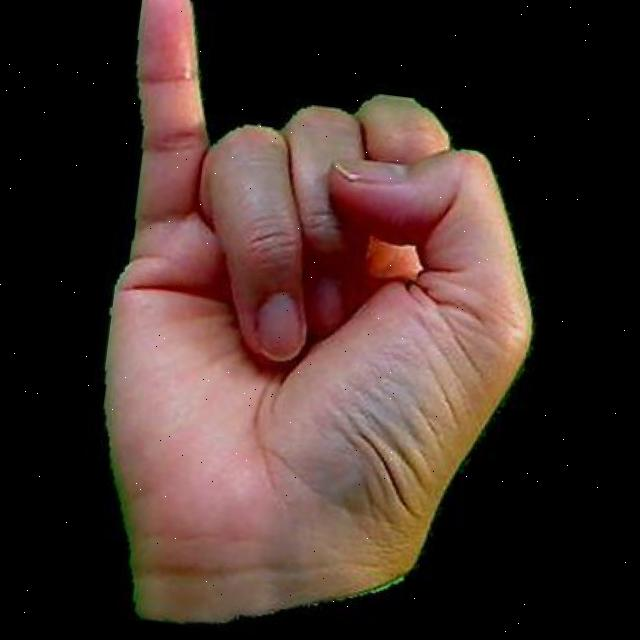i: (51, 0, 573, 640)
